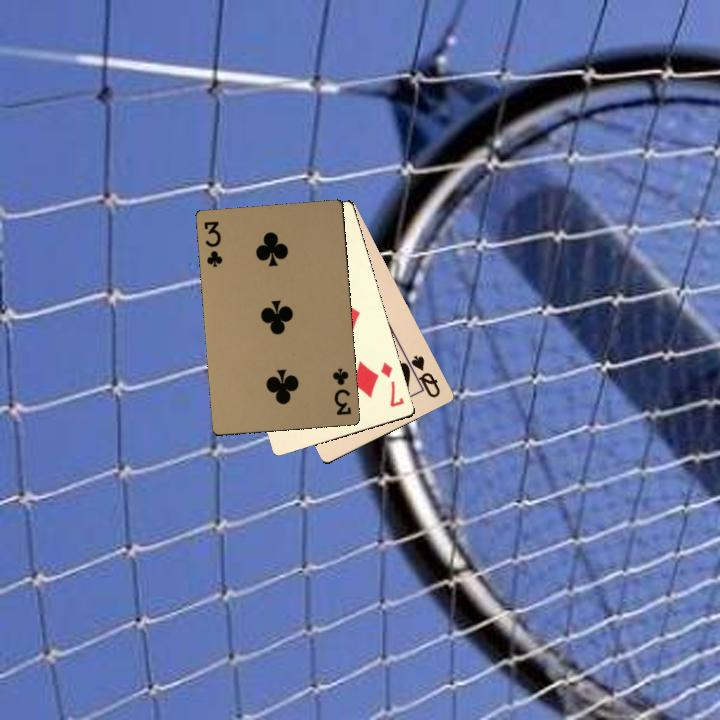3c: (328, 364, 354, 418), (200, 217, 225, 270)
7d: (377, 358, 407, 409)
Qs: (402, 351, 443, 400)
